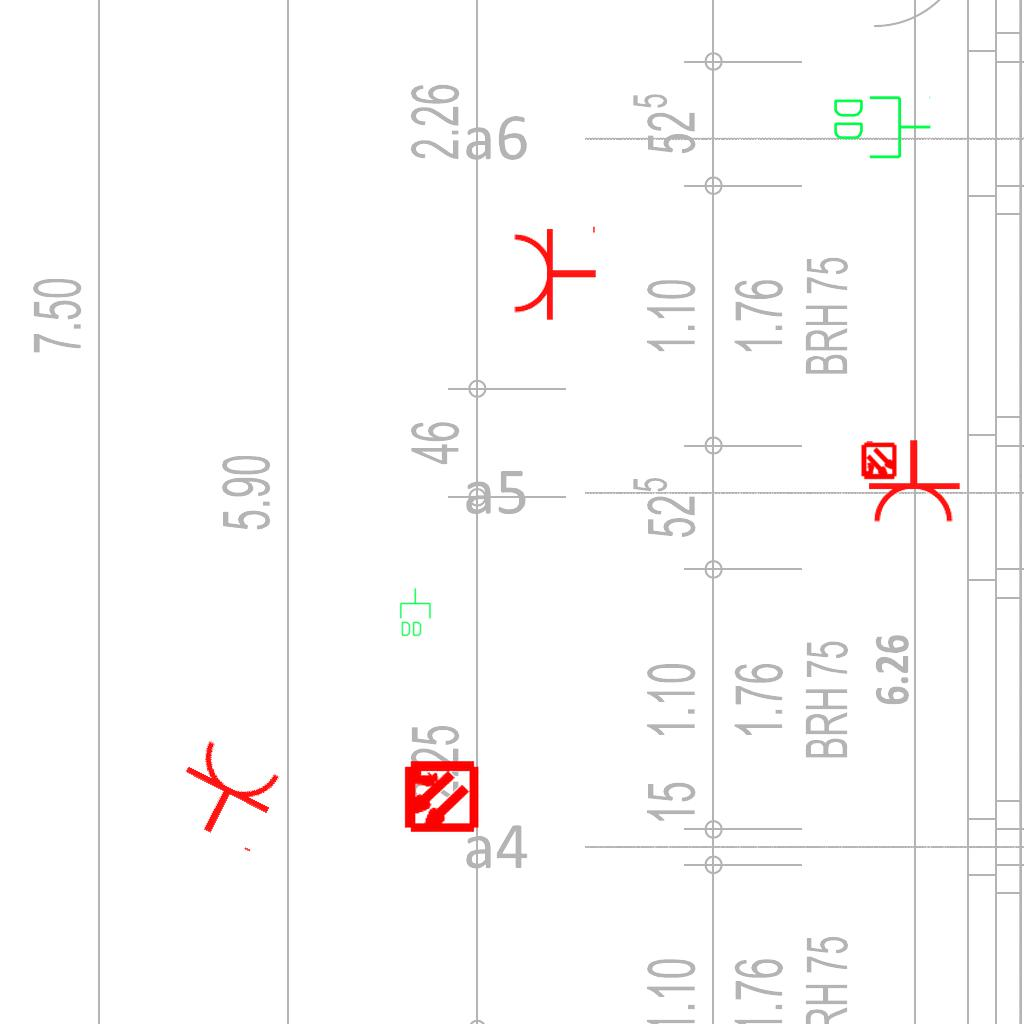Datenanschluss_zweifach: (830, 92, 933, 161), (398, 587, 432, 638)
OT_Multisensormelder_(Kombination_RMO_WMD): (383, 740, 496, 853), (851, 434, 907, 490)
Schukosteckdose_einfach: (163, 733, 292, 857), (511, 222, 598, 322), (862, 438, 962, 525)
